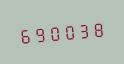eight: (93, 17, 107, 40)
nine: (32, 22, 46, 45)
six: (17, 23, 31, 46)
three: (78, 18, 92, 41)
zero: (63, 19, 77, 42), (48, 21, 62, 43)
